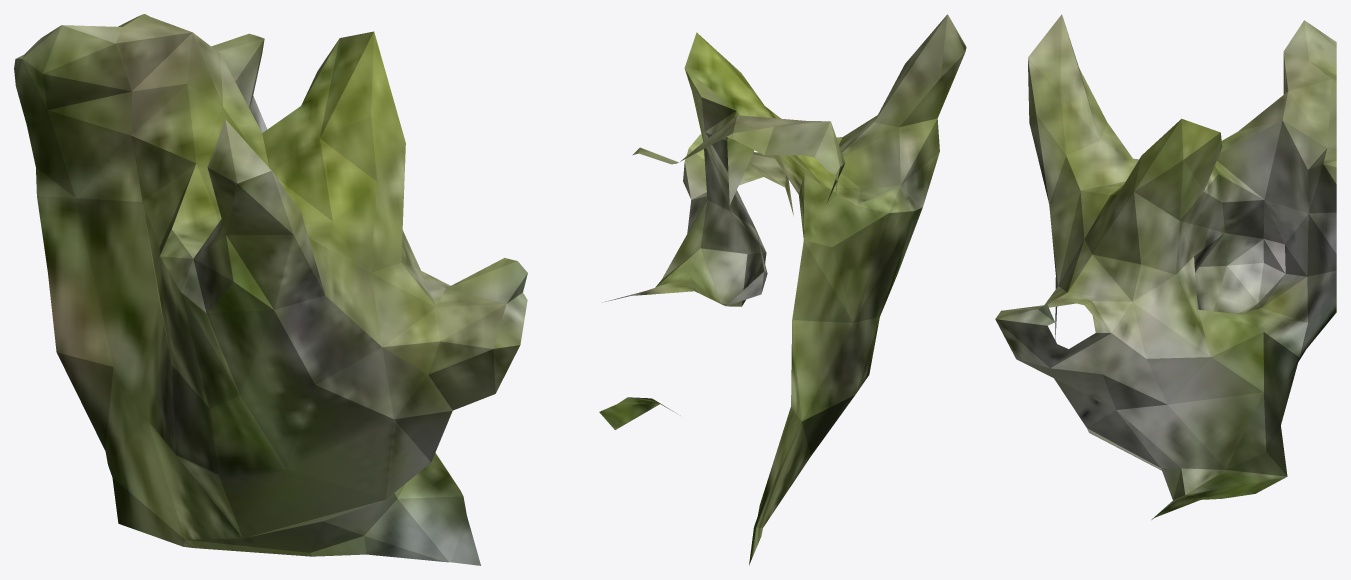
3 renders of one model, left to right at view 1: azimuth 30°, elevation 25°; view 2: azimuth 150°, elevation 25°; view 3: azimuth 270°, elevation 25°, orthographic. The views are drawn at different scales.
Size of the model in its own units: 1.17 by 1.83 by 1.29.
1 material, 1 textured.
